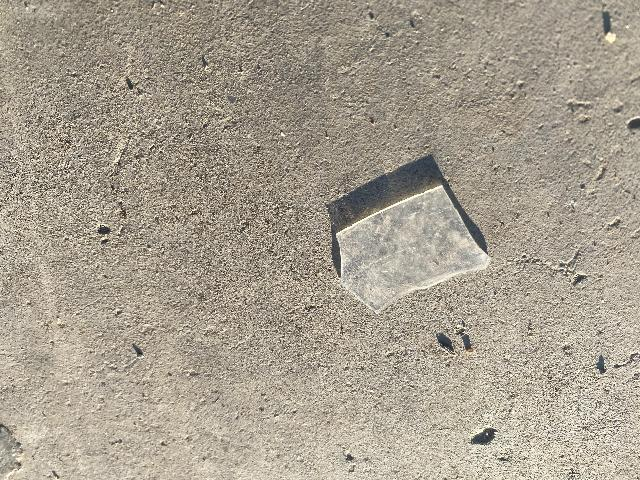Cam: (335, 171, 494, 313)
